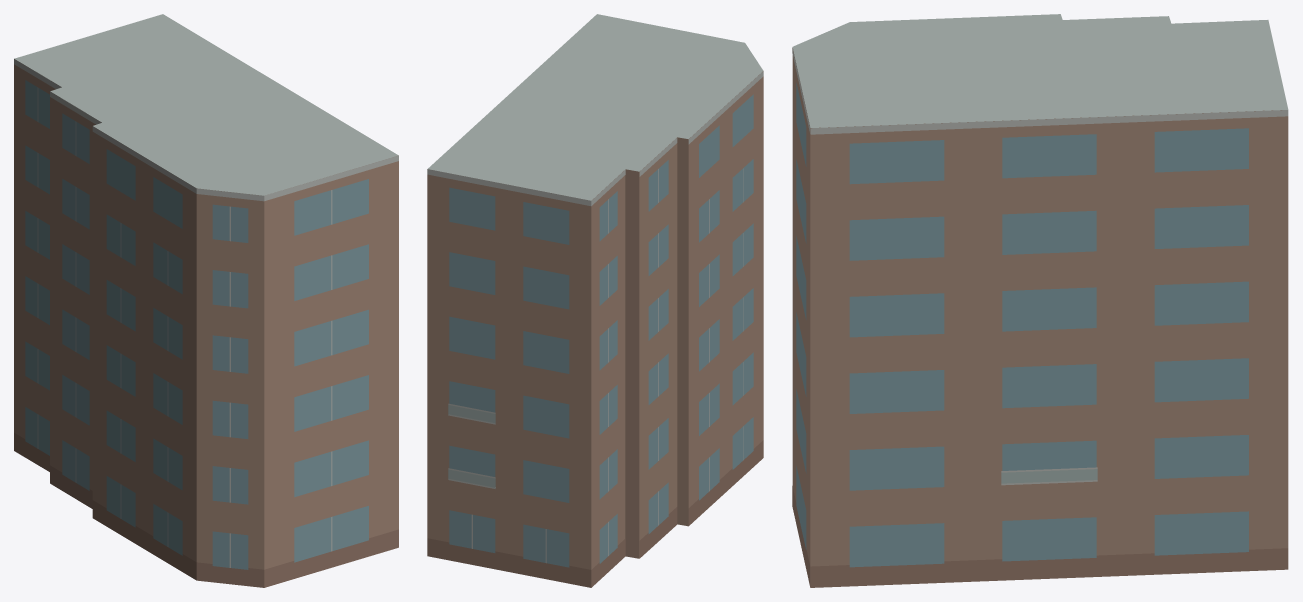
Rendered from survey-upis-32990424.glb.
The picture shows the model from 3 angles, left to right: view 1: azimuth 30°, elevation 25°; view 2: azimuth 150°, elevation 25°; view 3: azimuth 270°, elevation 25°; orthographic projection. The views are drawn at different scales.
Parts seen in each view (by area): view 1: survey-upis-32990424.tmp; view 2: survey-upis-32990424.tmp; view 3: survey-upis-32990424.tmp.
Boxes of the visible parts, <box> form: survey-upis-32990424.tmp: <box>14,14,398,587</box>; survey-upis-32990424.tmp: <box>427,14,763,587</box>; survey-upis-32990424.tmp: <box>792,14,1288,587</box>.
Bounding box in the file's own units: 9.11 × 17.1 × 16.73.
